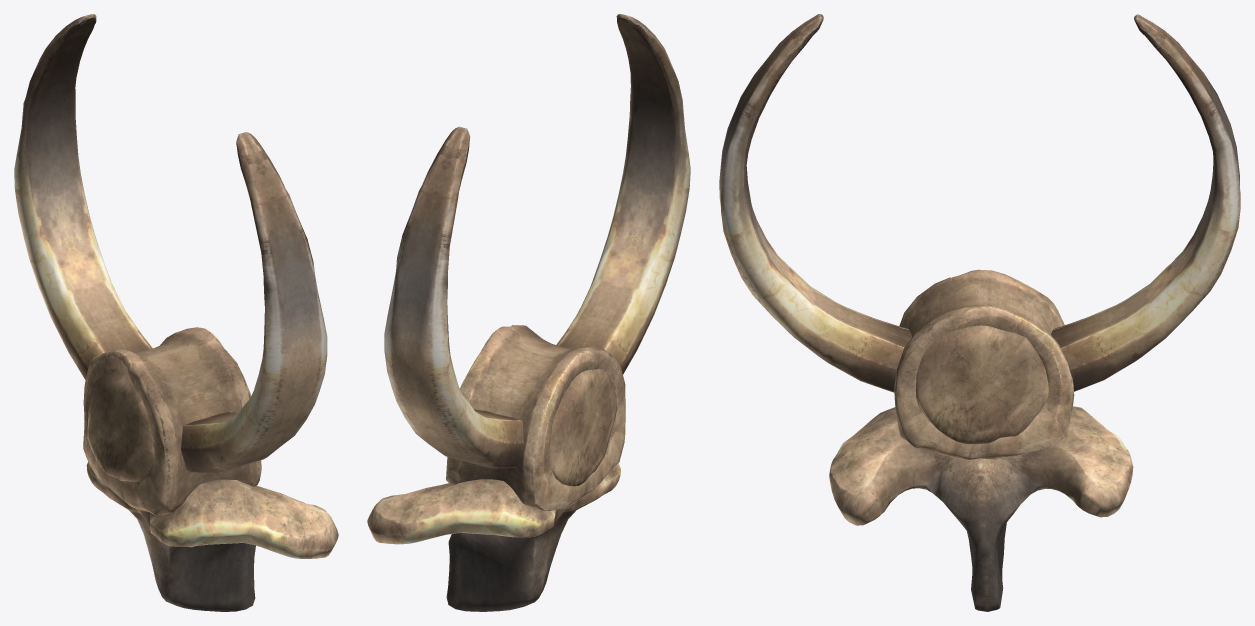
The picture shows the model from 3 angles, left to right: view 1: azimuth 30°, elevation 25°; view 2: azimuth 150°, elevation 25°; view 3: azimuth 270°, elevation 25°; orthographic projection.
Parts seen in each view (by area): view 1: SM_Dragon_Rib_Bones_Single_03_LOD0; view 2: SM_Dragon_Rib_Bones_Single_03_LOD0; view 3: SM_Dragon_Rib_Bones_Single_03_LOD0.
Boxes of the visible parts, <box> form: SM_Dragon_Rib_Bones_Single_03_LOD0: <box>14,14,338,611</box>; SM_Dragon_Rib_Bones_Single_03_LOD0: <box>367,14,690,611</box>; SM_Dragon_Rib_Bones_Single_03_LOD0: <box>719,14,1240,611</box>.
Bounding box in the file's own units: 5.6 × 17.66 × 14.97.
3 materials, 3 textured.
